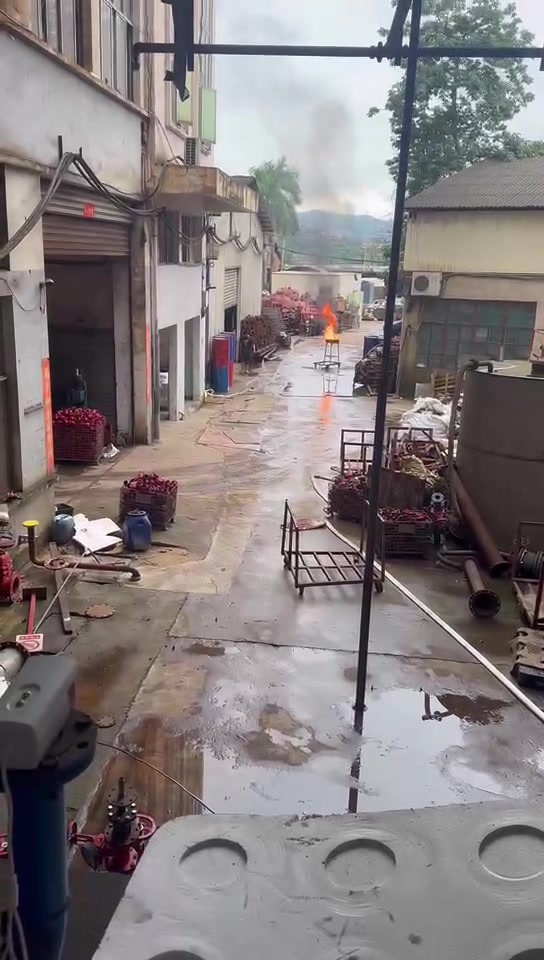fire: (322, 304, 337, 339)
